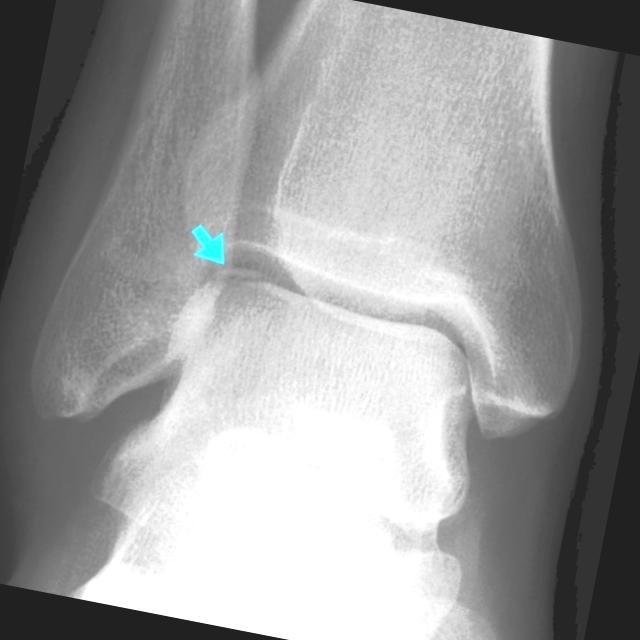HairLine Fracture: (205, 263, 263, 296)
